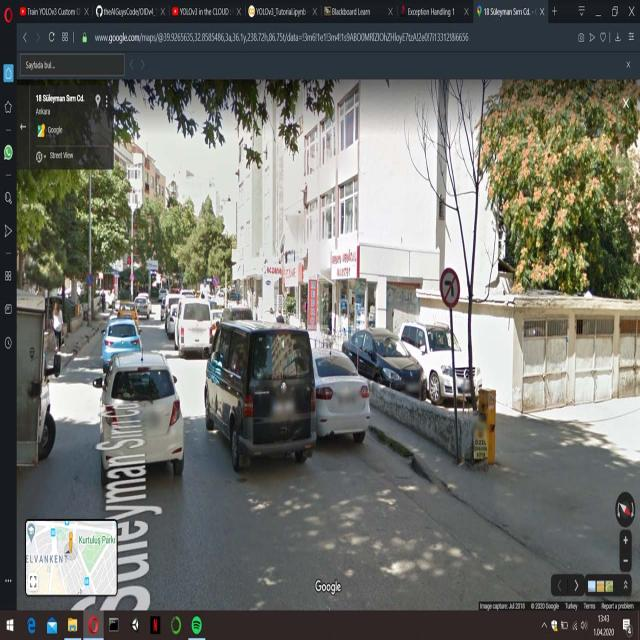soladonulmez: (439, 266, 461, 306)
